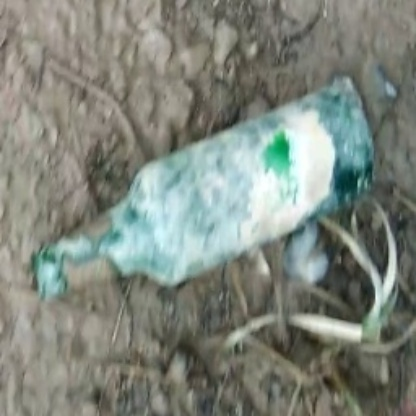bottle: (34, 77, 376, 297)
